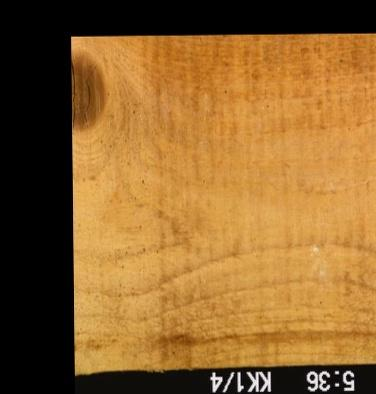sound_knot: (70, 51, 107, 136)
